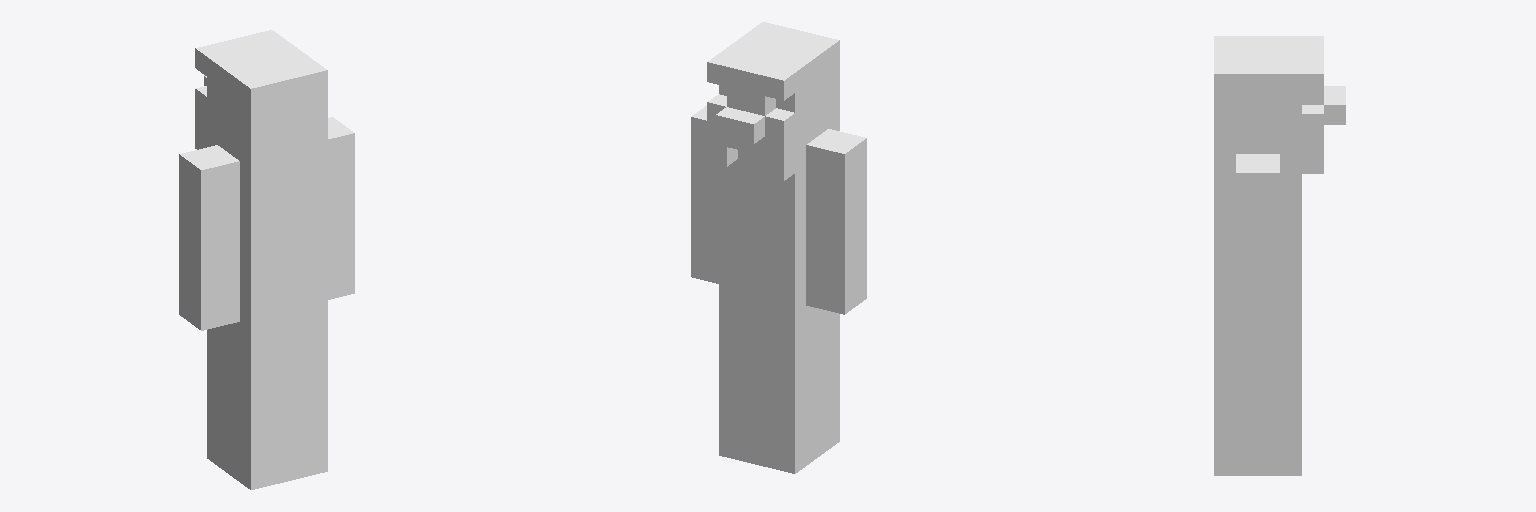
Rendered from troll.obj.
3 views of the same model, side by side, from view 1: azimuth 30°, elevation 25°; view 2: azimuth 150°, elevation 25°; view 3: azimuth 270°, elevation 25° (orthographic).
Size of the model in its own units: 8 by 20 by 6.